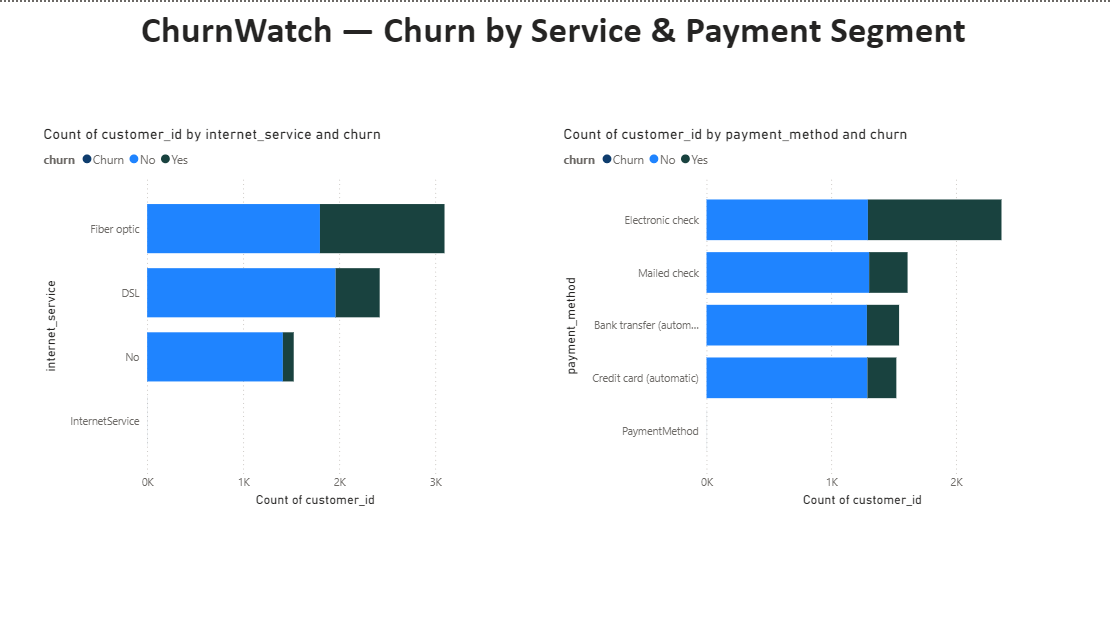

This screenshot's page, from the dashboard's own definition file:
{"tool":"powerbi","page":{"name":"Segmentation","canvas":[1280,720],"ordinal":3},"visuals":[{"type":"barChart","fields":{"Category":["vw_customer_clean.internet_service"],"Series":["vw_customer_clean.churn"],"Y":["CountNonNull(vw_customer_clean.customer_id)"]},"box":[45.7,140,520,441.4],"z":0},{"type":"barChart","fields":{"Category":["vw_customer_clean.payment_method"],"Series":["vw_customer_clean.churn"],"Y":["CountNonNull(vw_customer_clean.customer_id)"]},"box":[640,140,537.1,441.4],"z":1},{"type":"textbox","box":[157.1,0,995.7,77.1],"z":2}]}

Visuals, with their boxes in screenshot pixels (x1, y1, x2, y2), scaled from the page's 1280x720 canvas onto the 1112x625 screenshot:
barChart - vw_customer_clean.internet_service x vw_customer_clean.churn: detection(40, 122, 491, 505)
barChart - vw_customer_clean.payment_method x vw_customer_clean.churn: detection(556, 122, 1023, 505)
textbox: detection(136, 0, 1001, 67)
